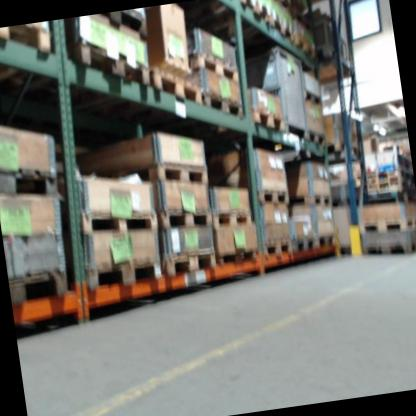pallet: (73, 29, 152, 96), (79, 200, 159, 242), (0, 157, 61, 207), (83, 256, 163, 294), (133, 157, 210, 195), (147, 62, 203, 112), (187, 45, 240, 91), (8, 268, 70, 304), (0, 20, 53, 61), (155, 202, 214, 235), (158, 246, 217, 278), (102, 7, 150, 43), (201, 85, 245, 122), (358, 212, 416, 238), (360, 237, 416, 262), (250, 106, 287, 137), (210, 205, 252, 232), (292, 232, 338, 253), (290, 189, 333, 211), (216, 246, 258, 267), (256, 184, 291, 207), (260, 236, 293, 257), (292, 33, 316, 60), (306, 129, 325, 147), (305, 87, 322, 105)
stillage: (233, 42, 316, 154)
